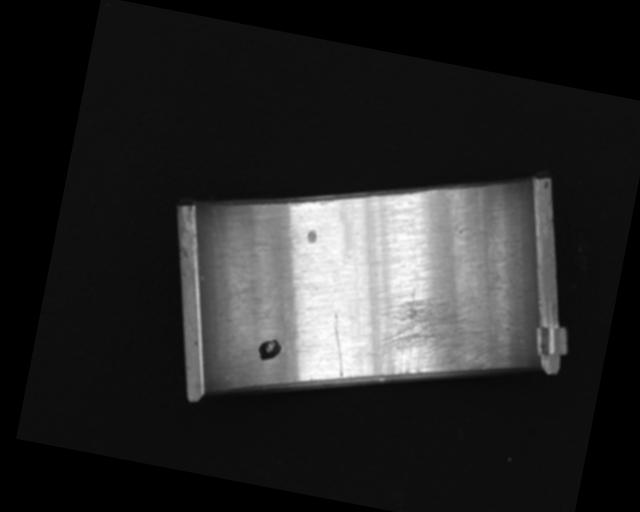blot: (256, 337, 284, 364)
bruise: (305, 228, 318, 245)
nick: (197, 204, 260, 302), (321, 311, 355, 377)
scratch: (372, 285, 500, 397)
